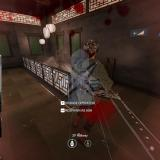Character: (69, 38, 114, 149)
Head: (83, 39, 99, 59)
